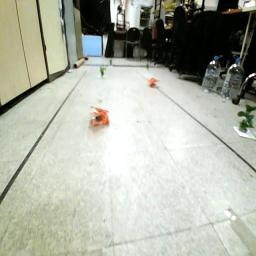herb: (235, 103, 256, 132), (100, 66, 108, 78)
wild: (90, 106, 113, 128), (149, 77, 161, 90)
